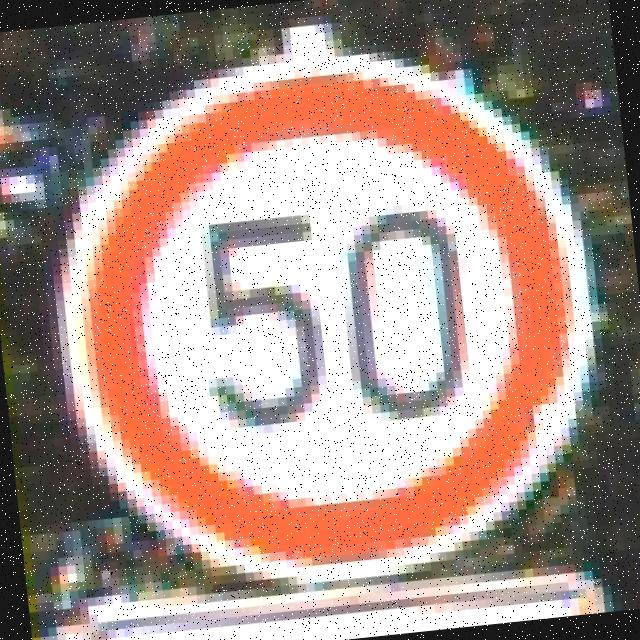Ograniczenie predkosci do 50: (62, 51, 596, 589)
